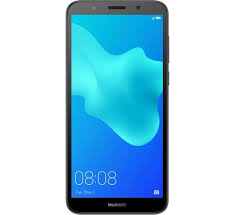huawei: (64, 1, 173, 214)
